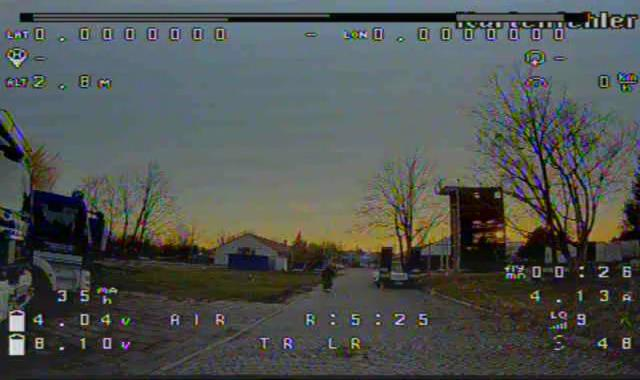truck: (36, 173, 109, 321), (0, 100, 39, 348)
